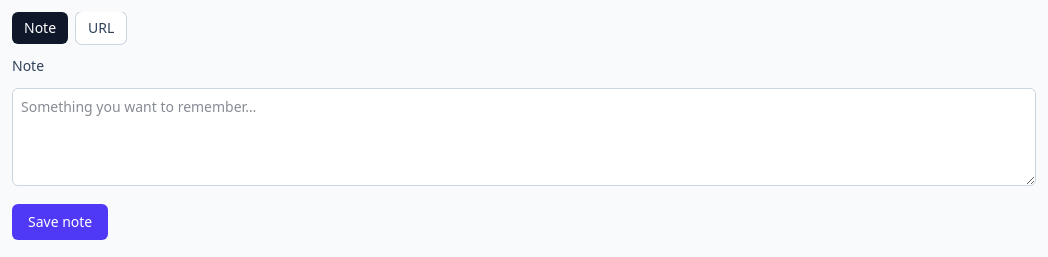
Test: AddItemForm › submits a valid note and clears the field
Type "  Buy oat milk  " into the text box labelled "Note" at (524, 137), box left=12, top=88, right=1036, bottom=186
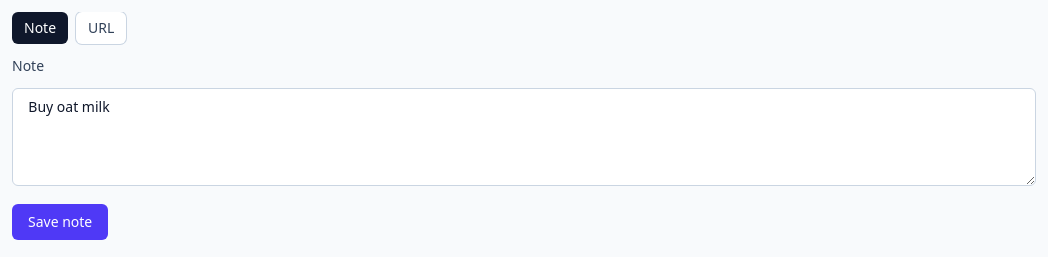
Click the button "Save note" at (60, 222), box left=12, top=204, right=108, bottom=240
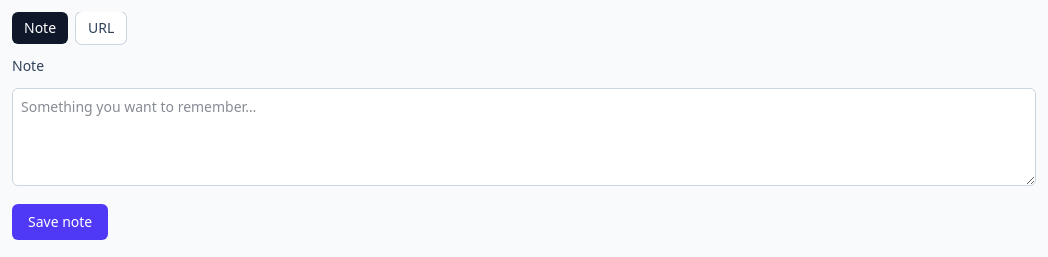
Expected: the text box labelled "Note" is empty, left=12, top=88, right=1036, bottom=186
